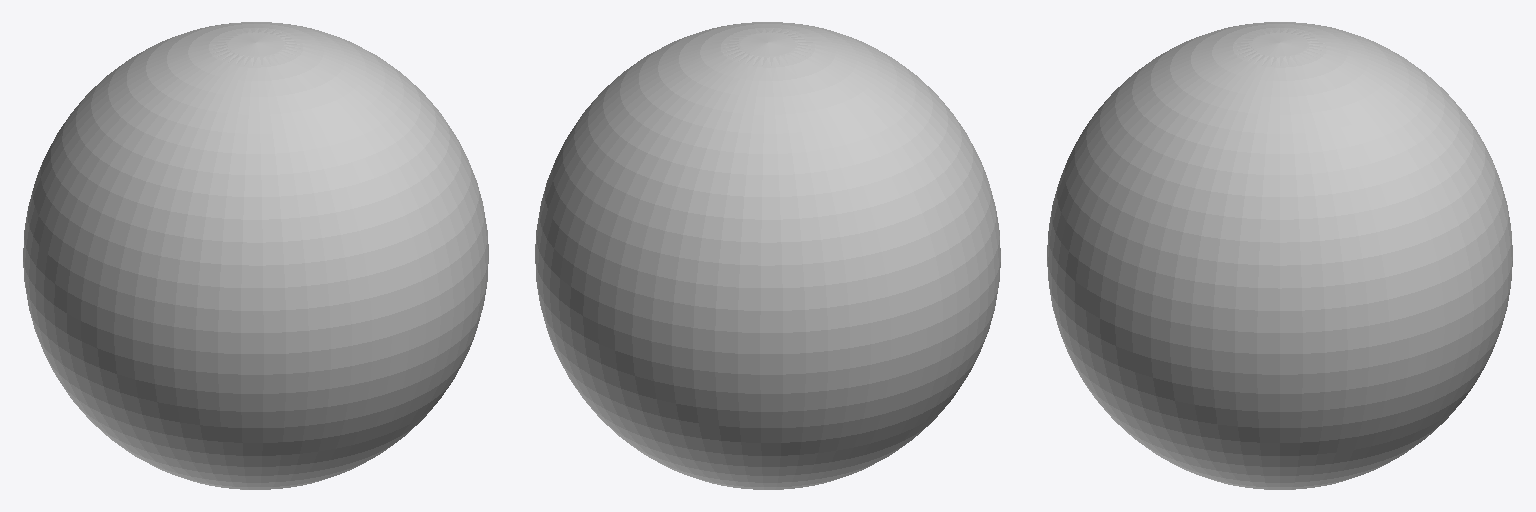
Rendered from skyboxLarge.obj.
The picture shows the model from 3 angles: view 1: azimuth 30°, elevation 25°; view 2: azimuth 150°, elevation 25°; view 3: azimuth 270°, elevation 25°; orthographic projection.
Visible parts, largest first — view 1: Sphere_Sphere.001; view 2: Sphere_Sphere.001; view 3: Sphere_Sphere.001.
Boxes of the visible parts, x1=… form: Sphere_Sphere.001: x1=23, y1=22, x2=488, y2=489; Sphere_Sphere.001: x1=535, y1=22, x2=1000, y2=489; Sphere_Sphere.001: x1=1047, y1=22, x2=1512, y2=489.
Bounding box in the file's own units: 474 × 479 × 474.